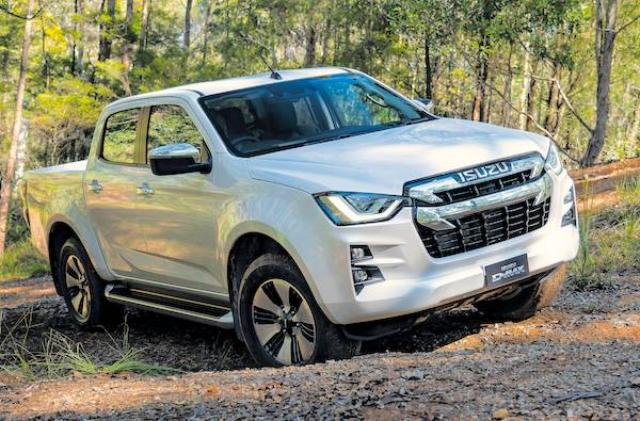pickup-truck: (29, 65, 577, 373)
